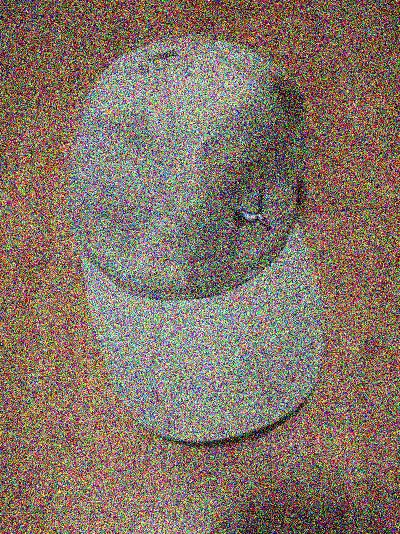Hat: (47, 21, 358, 445)
